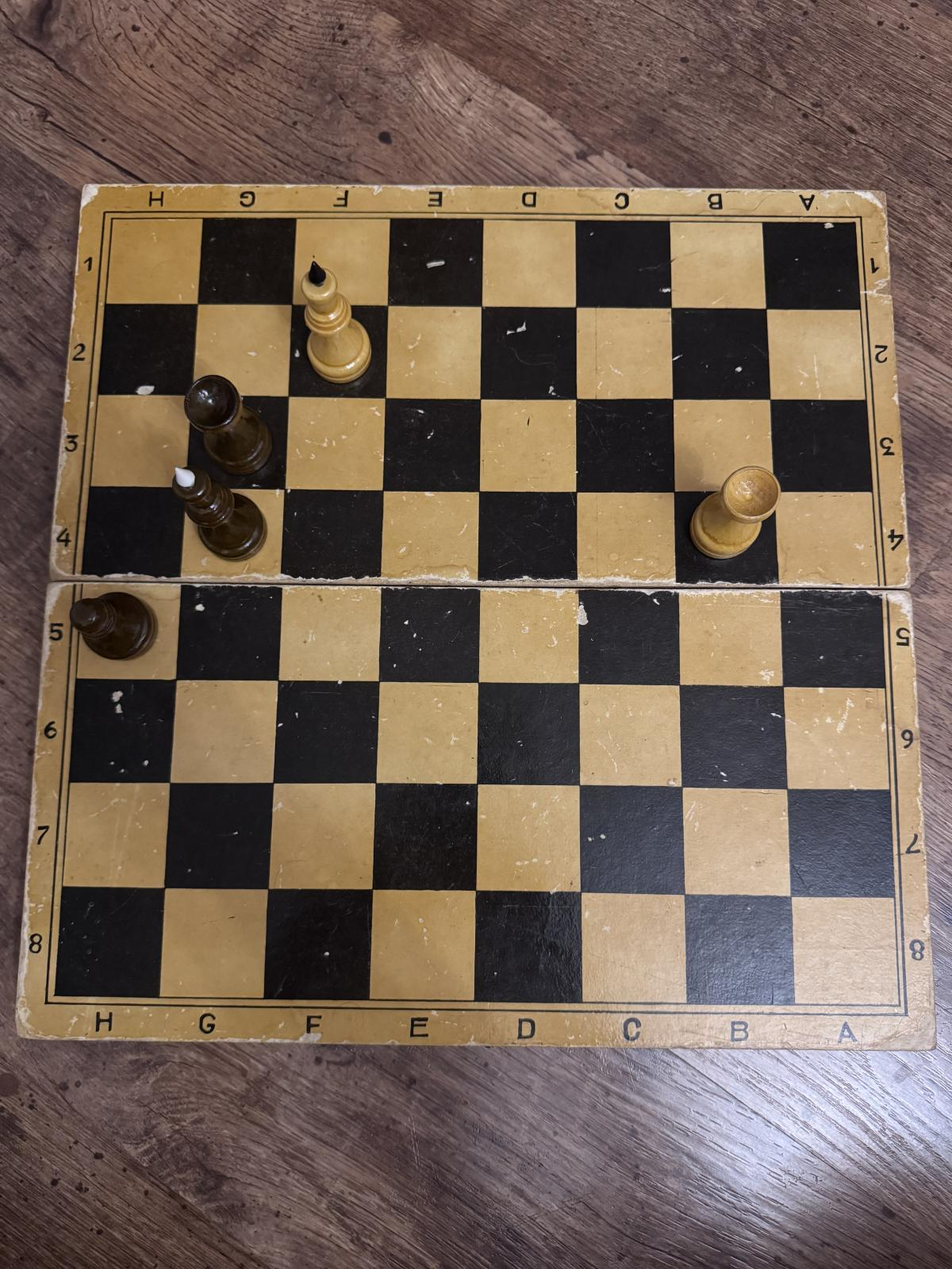Chess-Board: (55, 218, 900, 1006)
